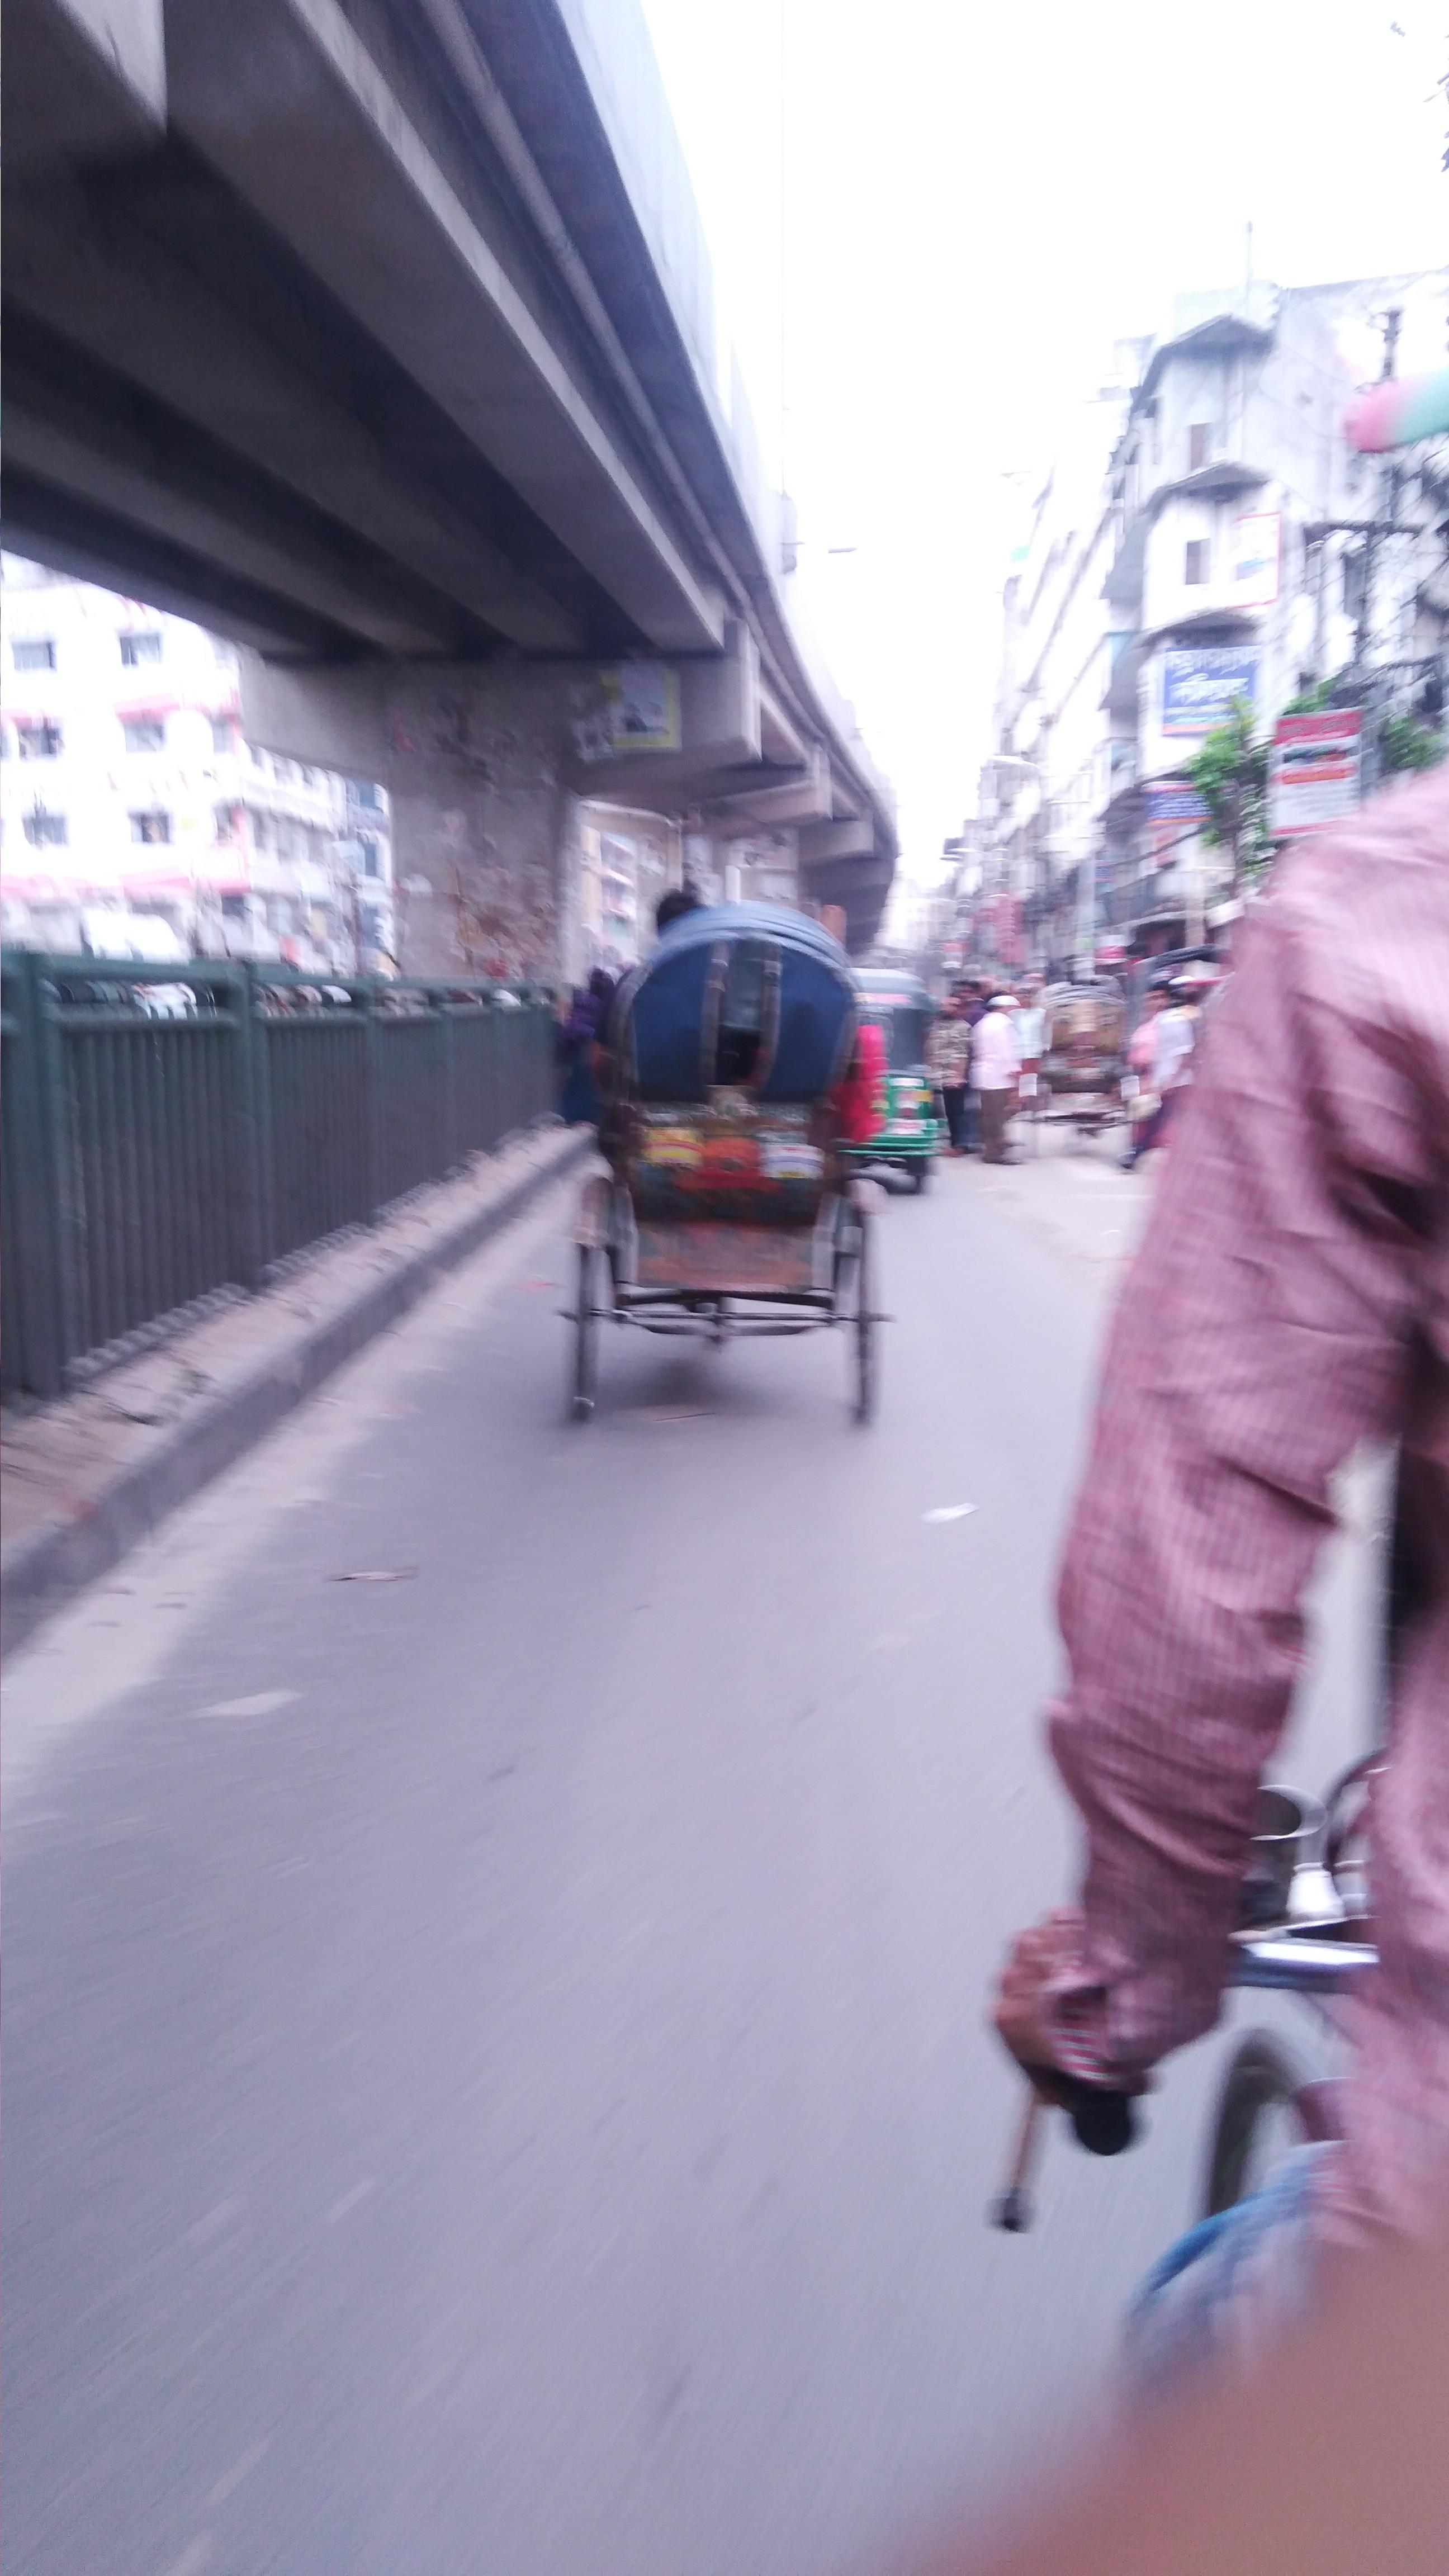Rickshaw: (568, 881, 922, 1511)
